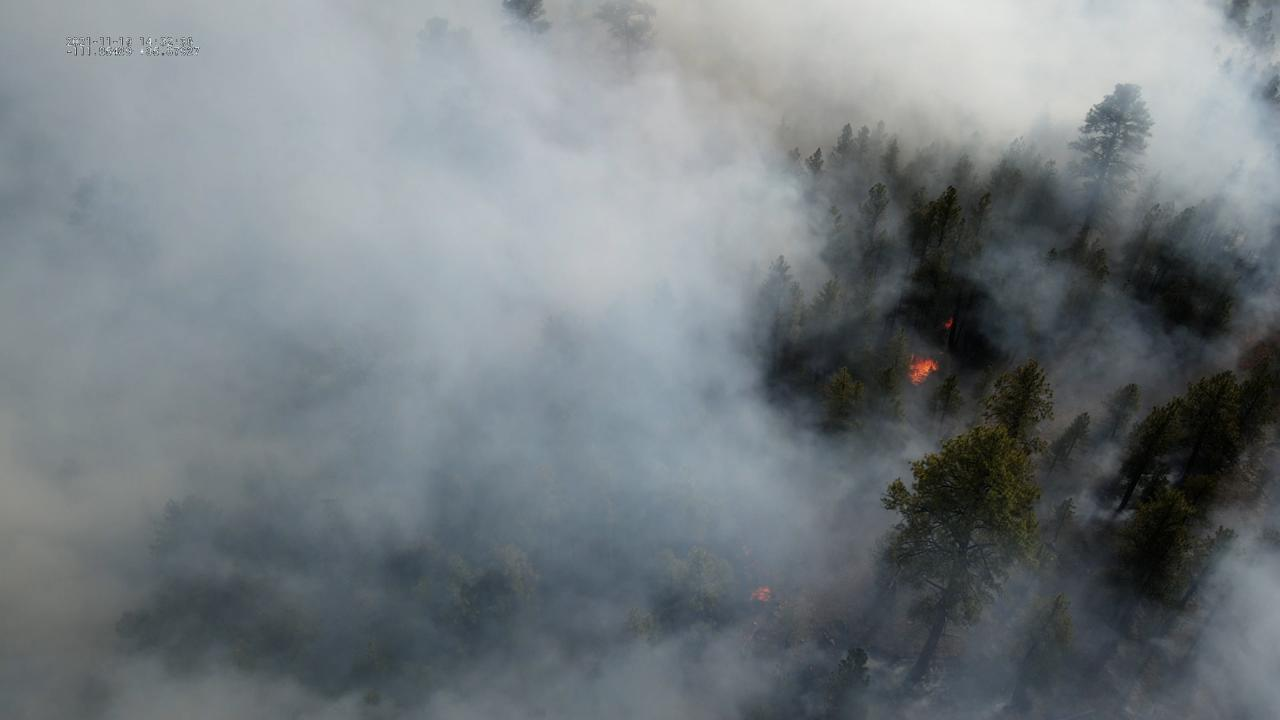fire: (906, 353, 940, 388), (746, 584, 773, 605), (942, 315, 956, 331)
smoke: (0, 0, 1280, 720)
